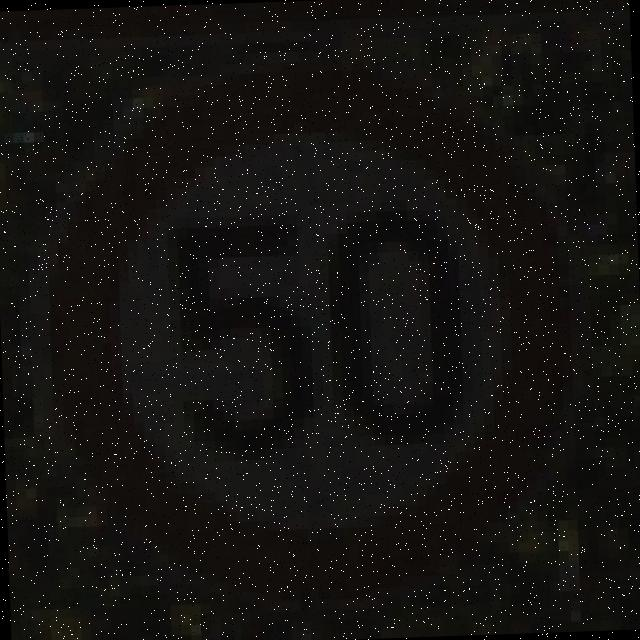Ograniczenie predkosci do 50: (33, 49, 576, 606)
